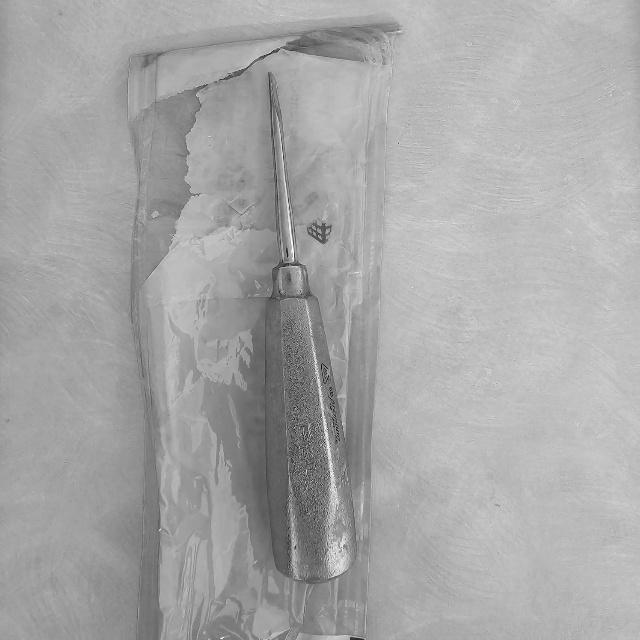botador: (256, 73, 356, 586)
